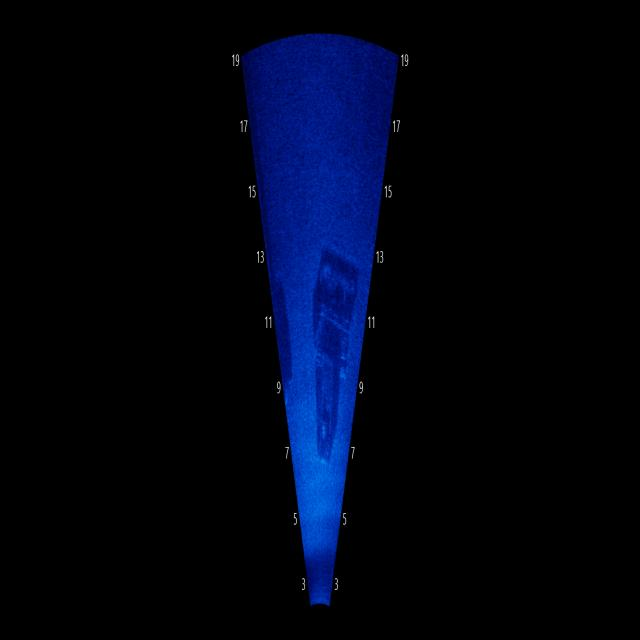square: (305, 239, 355, 469)
